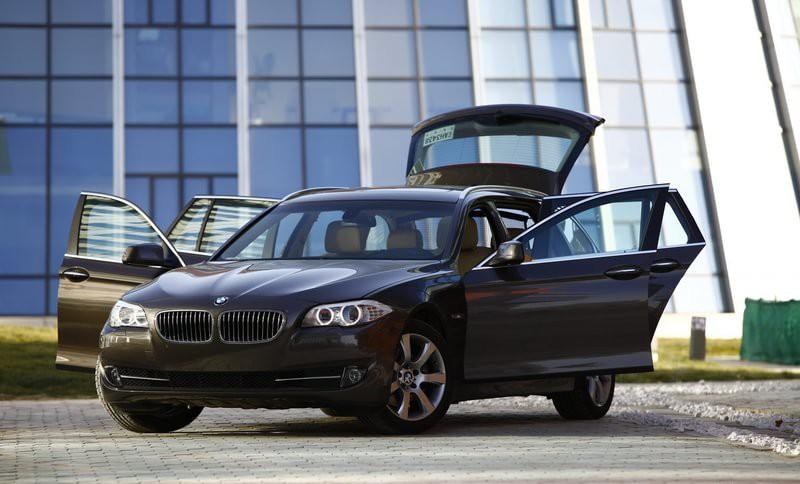Wagon: (53, 101, 707, 437)
